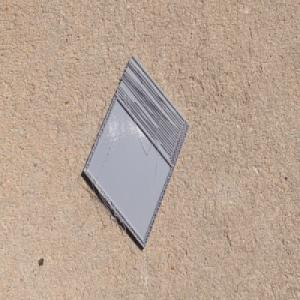PlasticPart: (83, 52, 191, 251)
